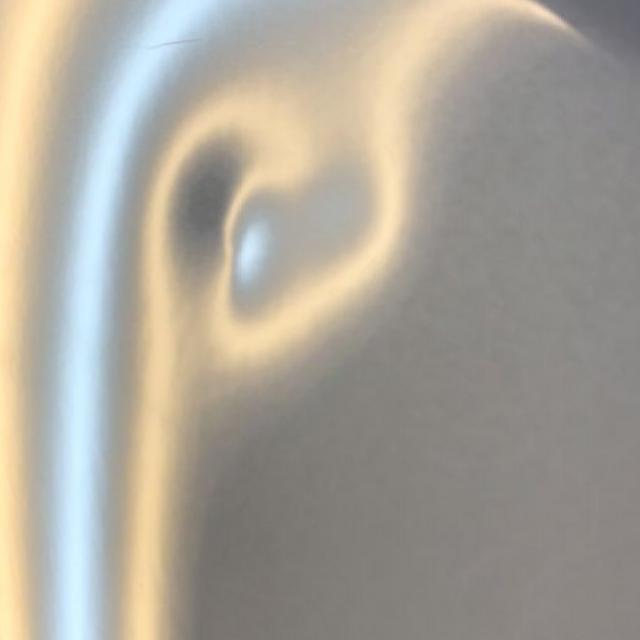dents: (164, 122, 355, 328)
